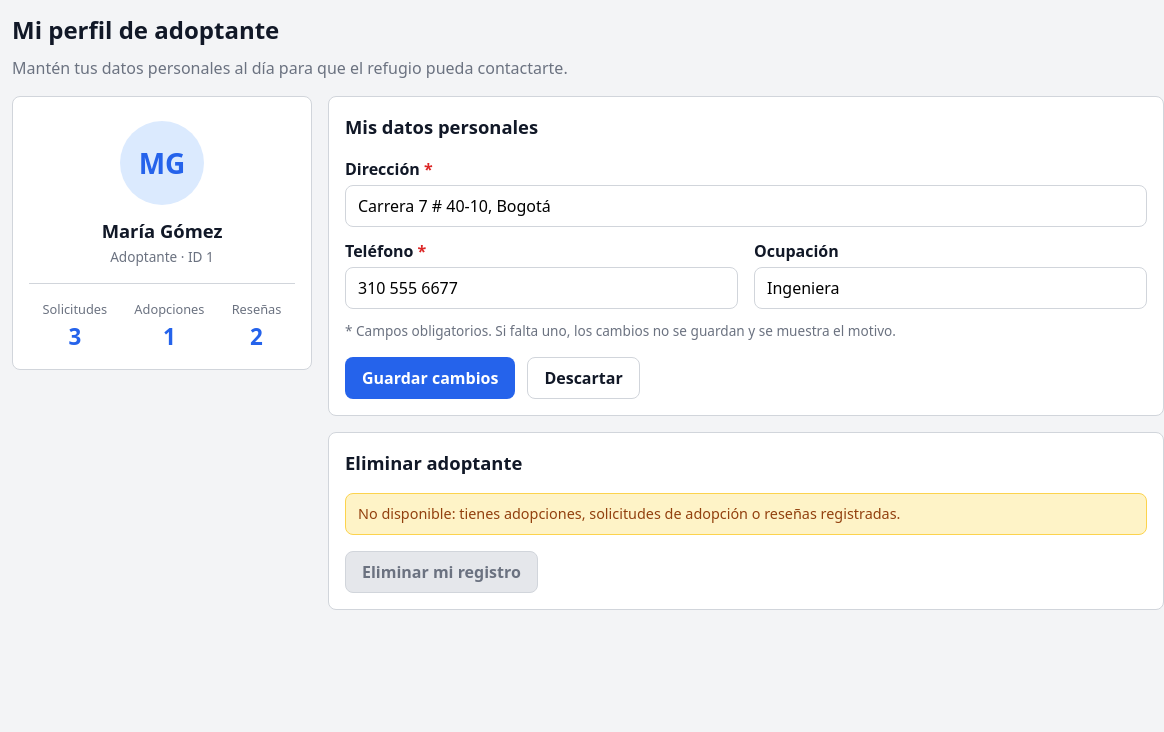
Test case: ProfilePage (HU12) › shows the reason of the back when the phone is missing
This screenshot has width=1164, height=732.
Clear the field labelled "Teléfono *": [542, 288] box [345,267,738,309]
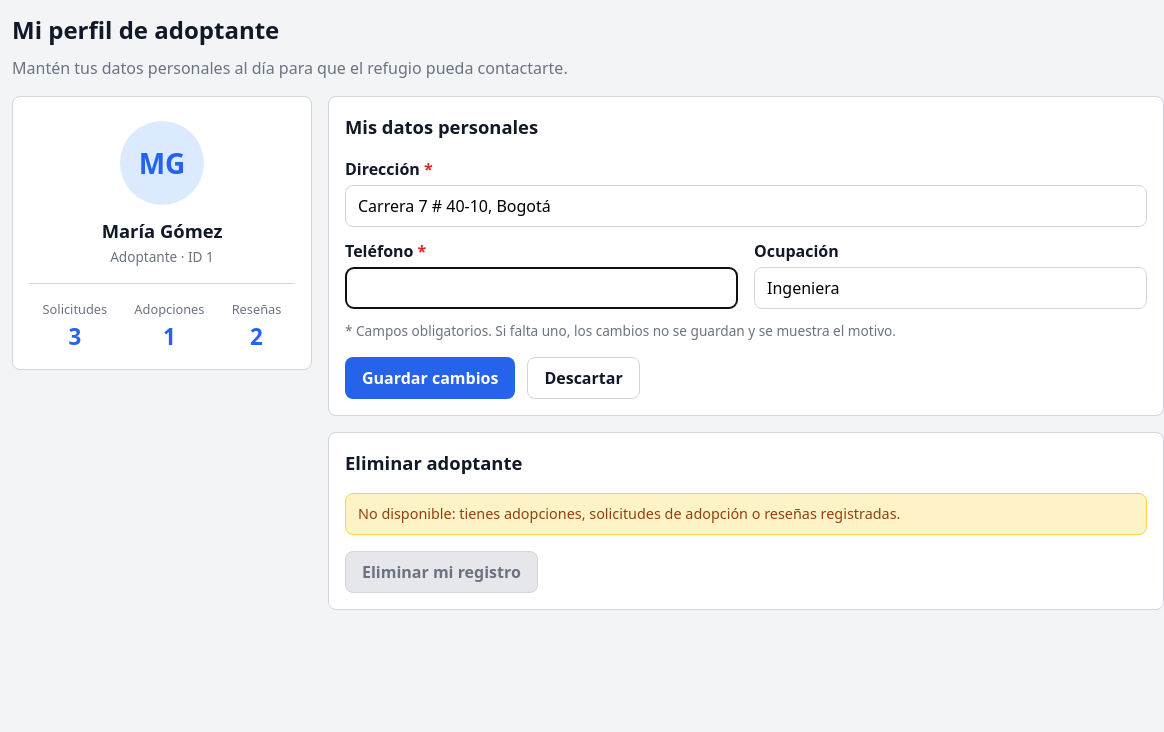
Click the button "Guardar cambios": [430, 378] box [345,357,515,399]
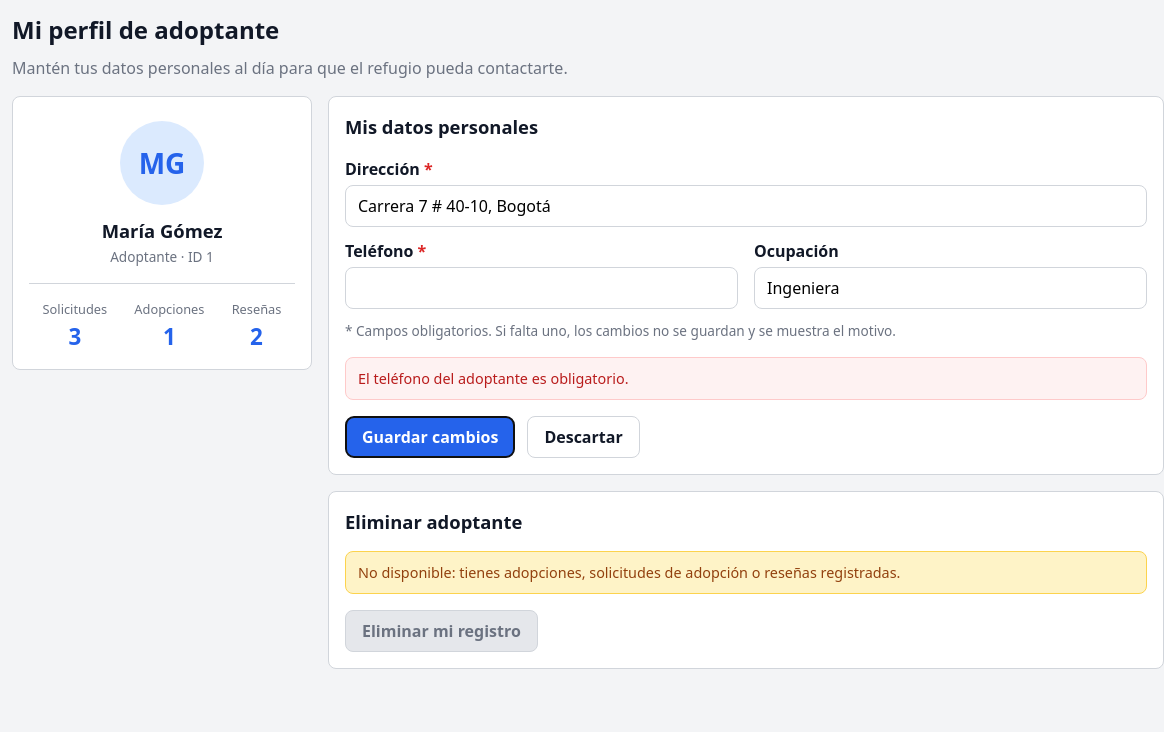
Check: the message reads "El teléfono del adoptante es obligatorio.", box [358,369,628,388]
